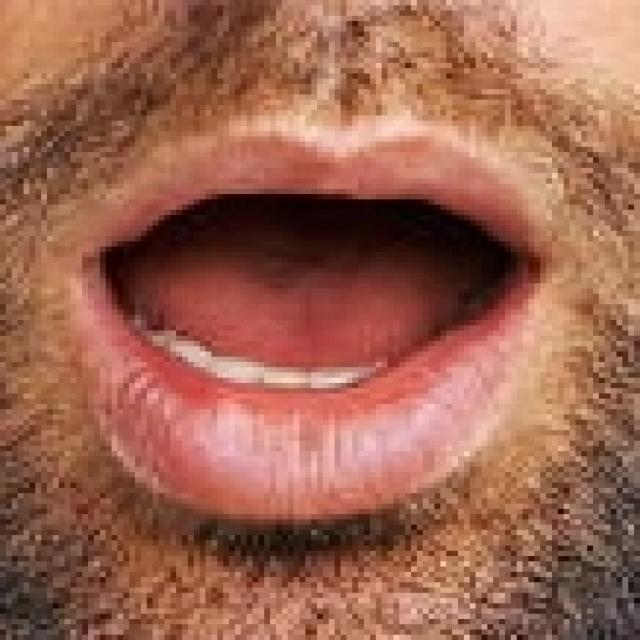open-mouth: (59, 116, 558, 524)
